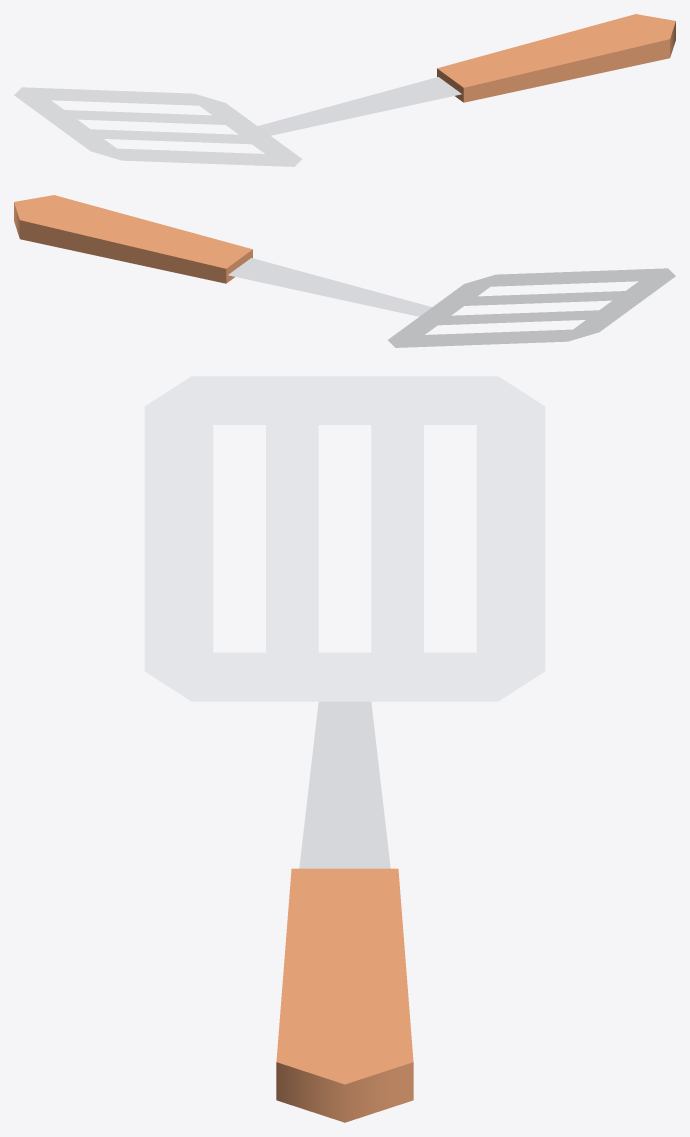
File: Cooking_Spatula.glb
The picture shows the model from 3 angles, top to bottom: view 1: azimuth 30°, elevation 25°; view 2: azimuth 150°, elevation 25°; view 3: azimuth 270°, elevation 25°; orthographic projection. The views are drawn at different scales.
Visible parts, largest first — view 1: cookingSpatula; view 2: cookingSpatula; view 3: cookingSpatula.
Boxes of the visible parts, <box> form: cookingSpatula: <box>14,14,675,166</box>; cookingSpatula: <box>14,195,675,347</box>; cookingSpatula: <box>144,376,545,1122</box>.
Bounding box in the file's own units: 0.6827 × 0.0721 × 0.19.
